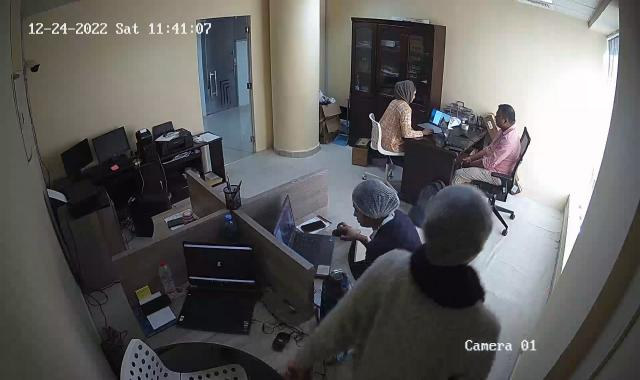hairnet: (423, 182, 491, 262), (352, 179, 400, 224)
no_hairnet: (394, 79, 419, 106), (494, 104, 517, 133)
